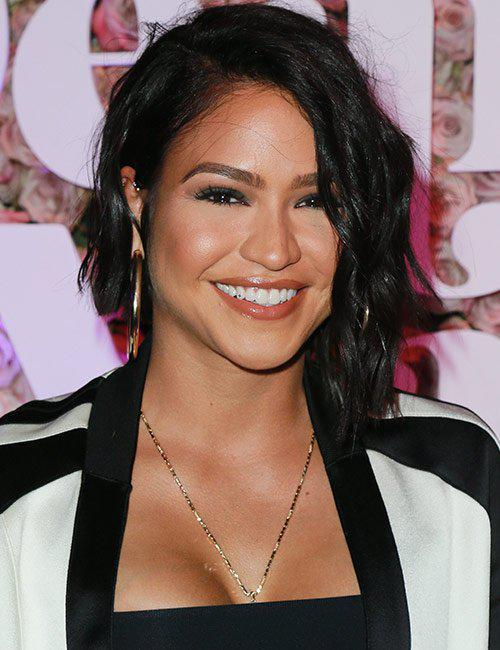Sober: (156, 102, 345, 370)
